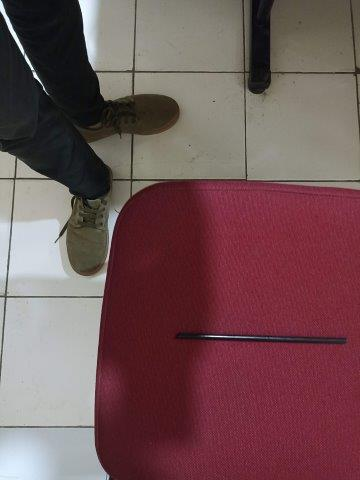sedotan: (175, 333, 346, 344)
